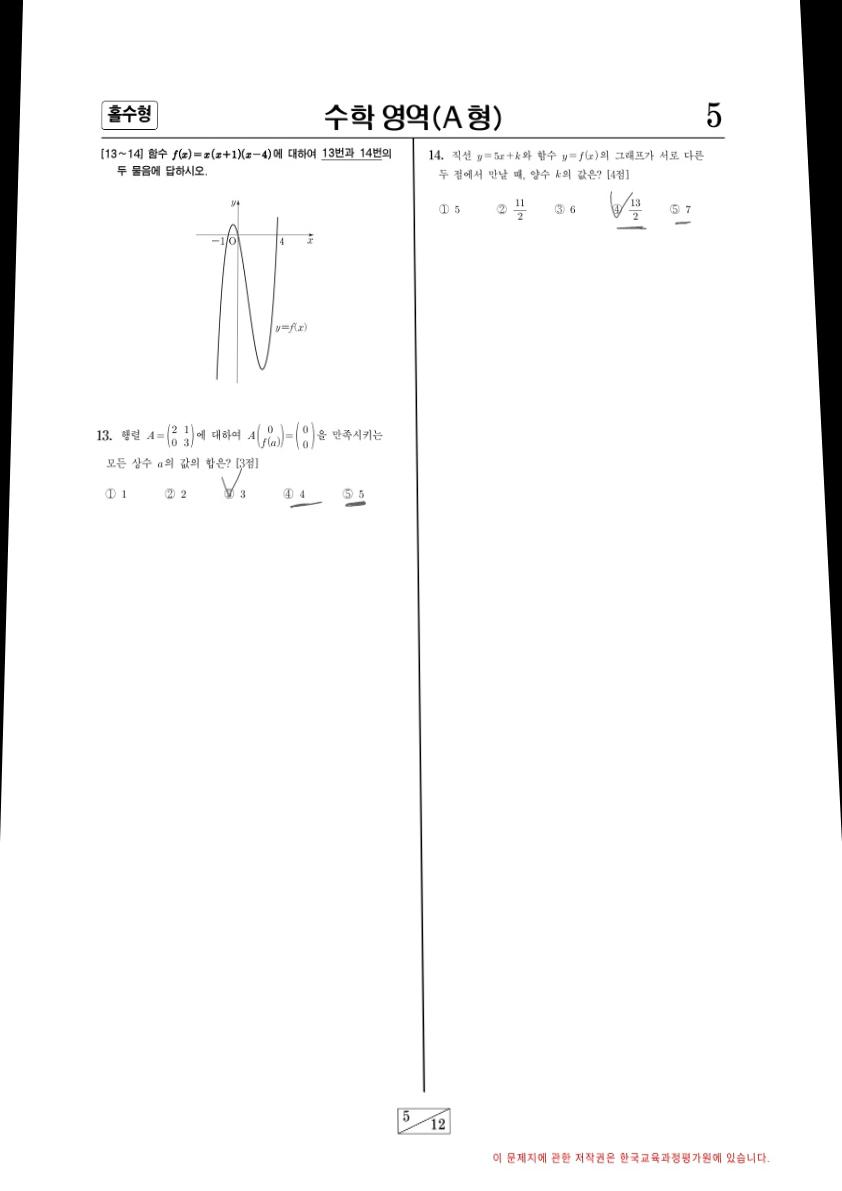question: (82, 141, 403, 527), (414, 139, 722, 239)
